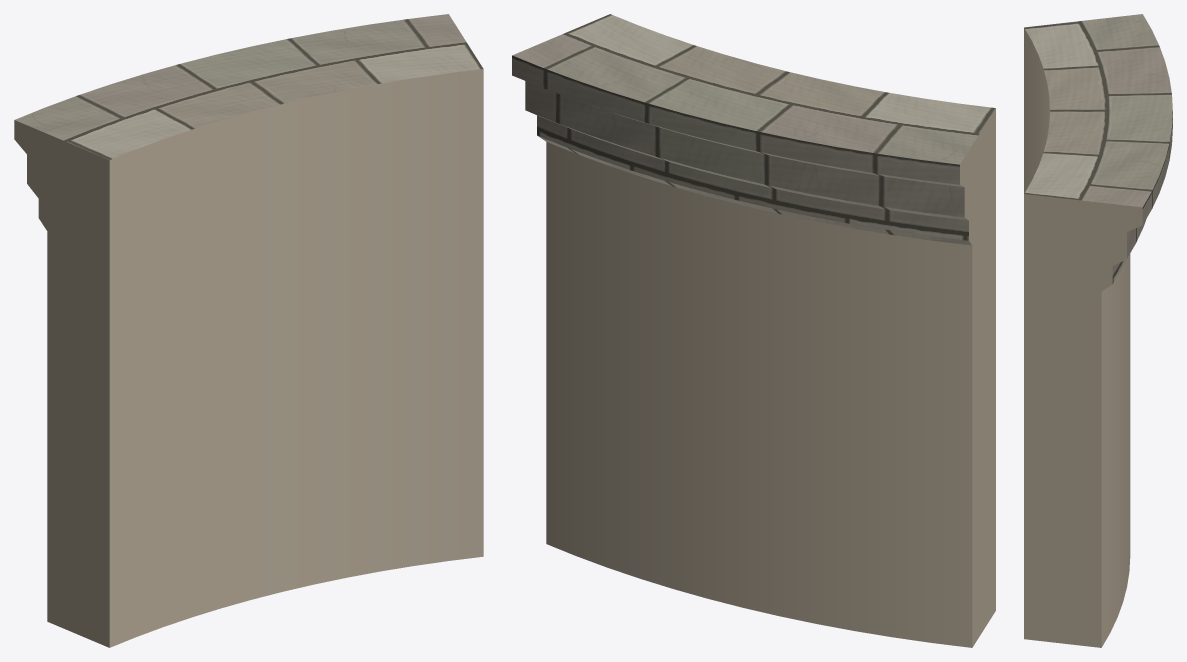
Rendered from Furn_Tower3_R45_Top.fbx.
3 views of the same model, side by side, from view 1: azimuth 30°, elevation 25°; view 2: azimuth 150°, elevation 25°; view 3: azimuth 270°, elevation 25° (orthographic). The views are drawn at different scales.
Visible parts, largest first — view 1: Furn_Tower3_R45_Top; view 2: Furn_Tower3_R45_Top; view 3: Furn_Tower3_R45_Top.
Boxes of the visible parts, left/top/right/bottom form: Furn_Tower3_R45_Top: left=14, top=14, right=483, bottom=647; Furn_Tower3_R45_Top: left=512, top=14, right=995, bottom=647; Furn_Tower3_R45_Top: left=1024, top=14, right=1172, bottom=647.
Bounding box in the file's own units: 2.8 × 3 × 0.9084.
